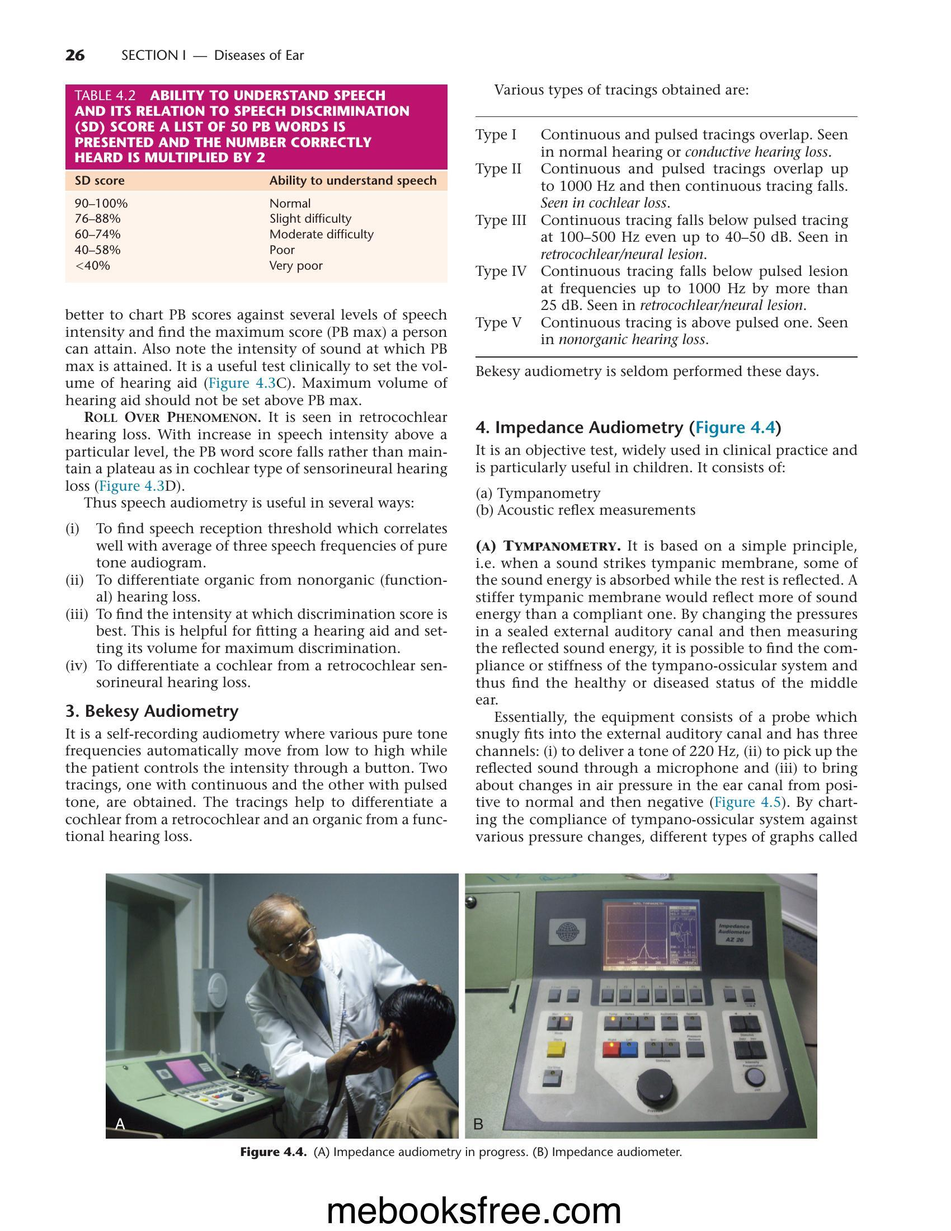caption: (69, 87, 411, 165), (238, 1144, 683, 1161), (114, 1116, 127, 1131), (473, 1116, 484, 1131)
header: (120, 47, 305, 61)
image: (105, 872, 459, 1139), (464, 872, 817, 1139)
list: (65, 519, 450, 692), (476, 486, 698, 519)
sub-section-heading: (64, 702, 240, 722)
table: (473, 114, 860, 359), (65, 170, 447, 282)
text: (474, 537, 859, 848), (64, 307, 448, 512), (64, 727, 448, 846), (474, 442, 858, 477), (475, 363, 820, 381), (494, 83, 750, 99)
